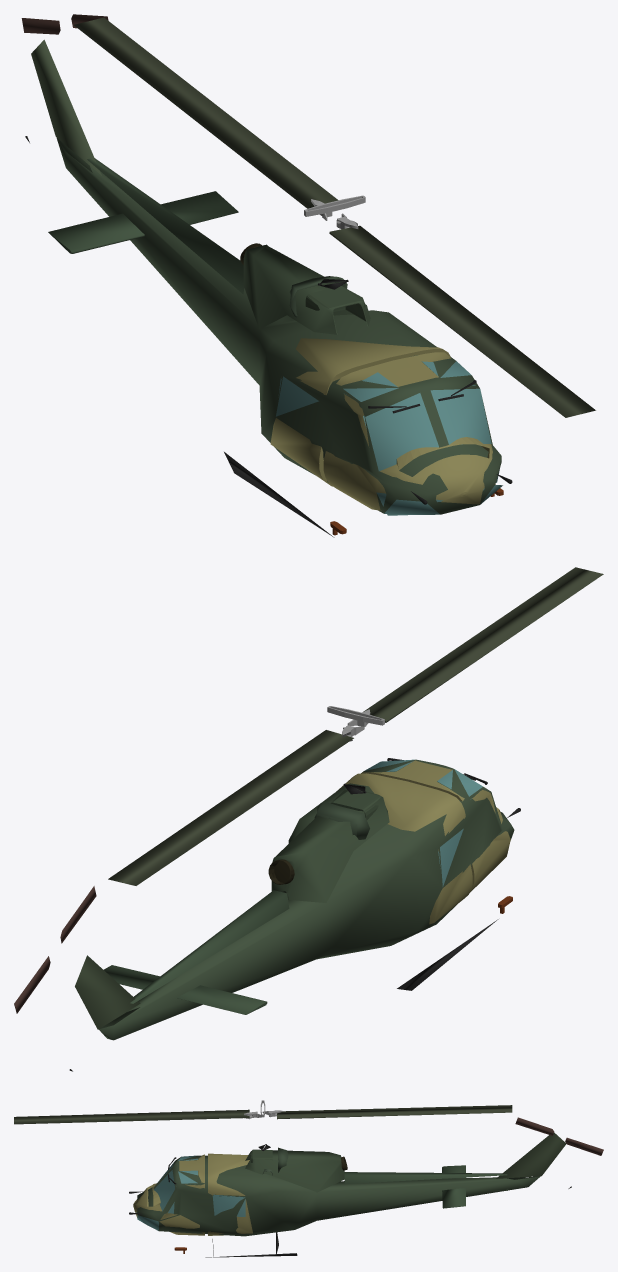
The model's file is uh1-medevac.lod0.glb.
3 renders of one model, top to bottom at view 1: azimuth 30°, elevation 25°; view 2: azimuth 150°, elevation 25°; view 3: azimuth 270°, elevation 25°, orthographic. The views are drawn at different scales.
Visible parts, largest first — view 1: Cylinder15-FACES, Cylinder22-FACES; view 2: Cylinder15-FACES, Cylinder22-FACES; view 3: Cylinder15-FACES, Cylinder22-FACES.
Boxes of the visible parts, x1=… form: Cylinder15-FACES: x1=21, y1=14, x2=595, y2=537; Cylinder22-FACES: x1=304, y1=195, x2=365, y2=229; Cylinder15-FACES: x1=14, y1=567, x2=603, y2=1071; Cylinder22-FACES: x1=327, y1=706, x2=384, y2=741; Cylinder15-FACES: x1=14, y1=1105, x2=603, y2=1257; Cylinder22-FACES: x1=244, y1=1100, x2=282, y2=1119.
Bounding box in the file's own units: 2.54 × 3.84 × 15.5.
